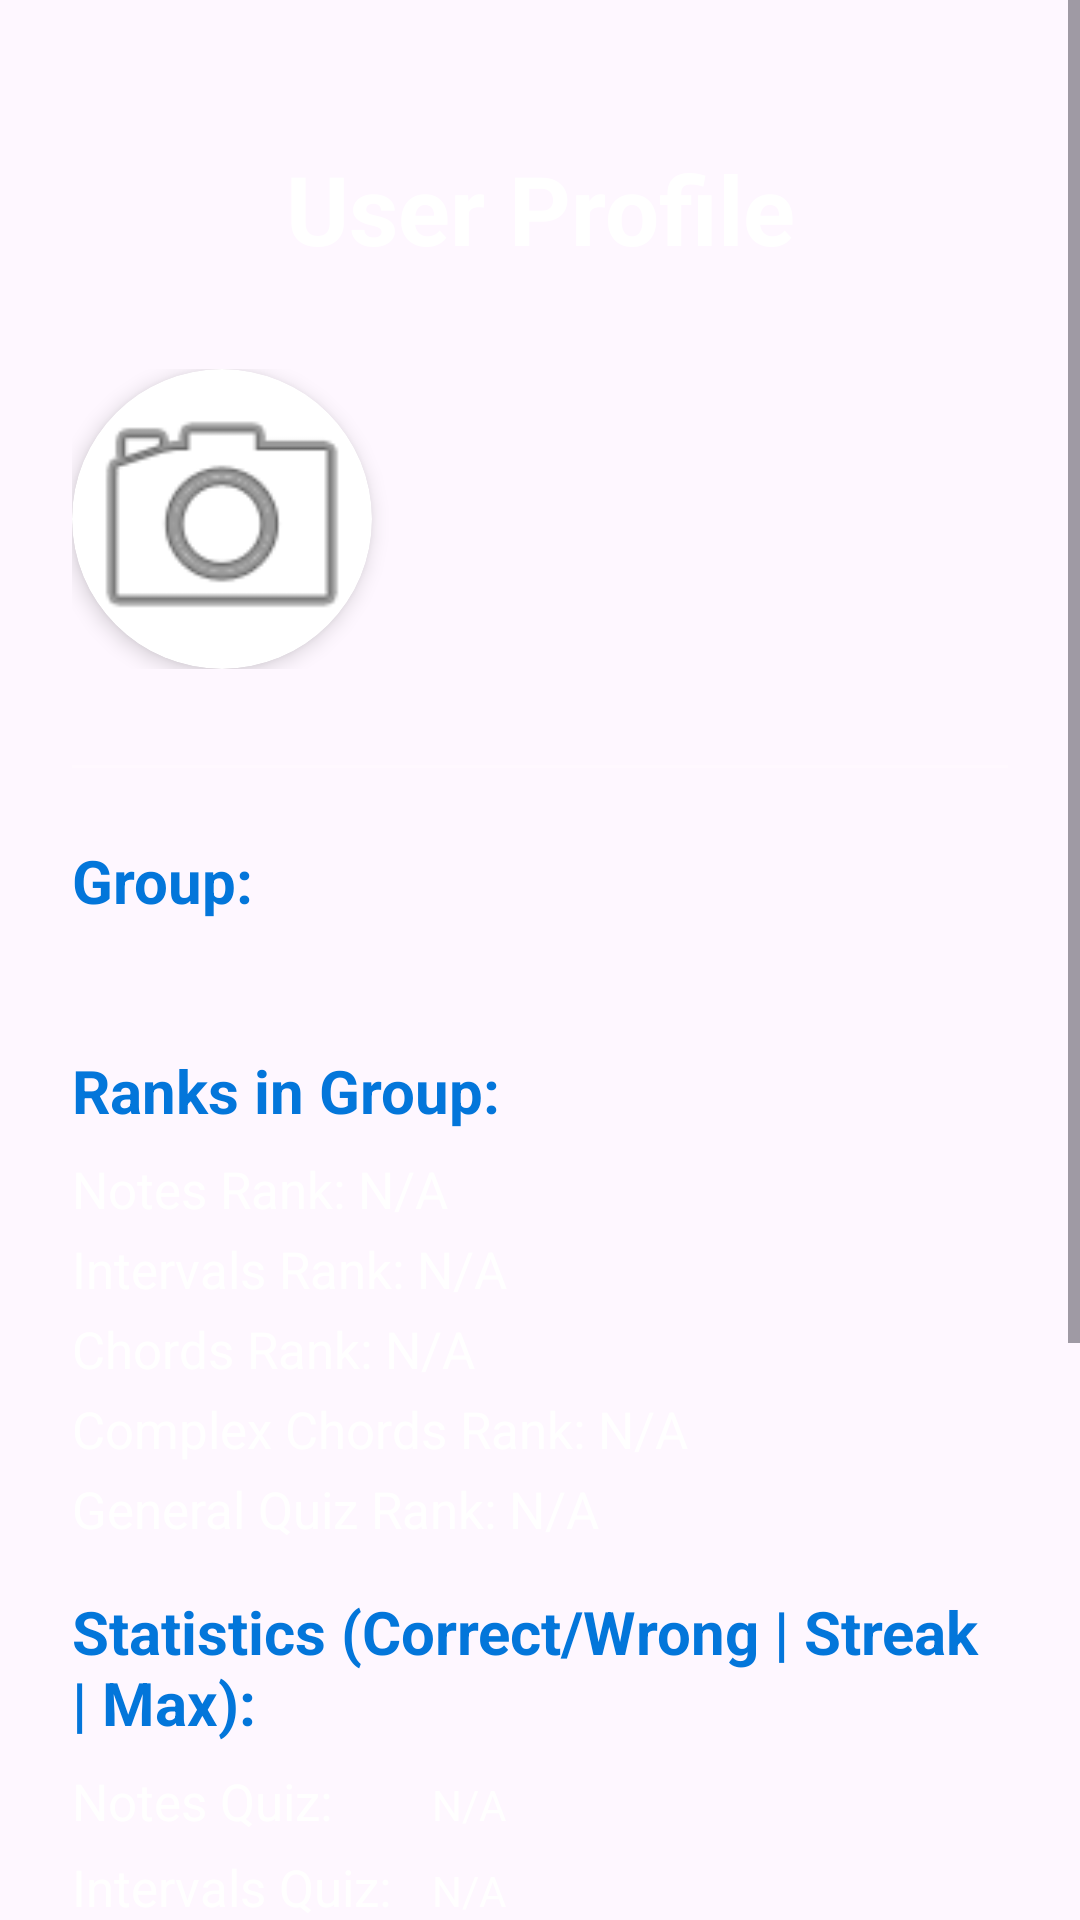

Named icons in this screenshot (1080*1920) and their bounding boxes, (x1, y1, x2, y2):
camera: (72, 369, 372, 669)
